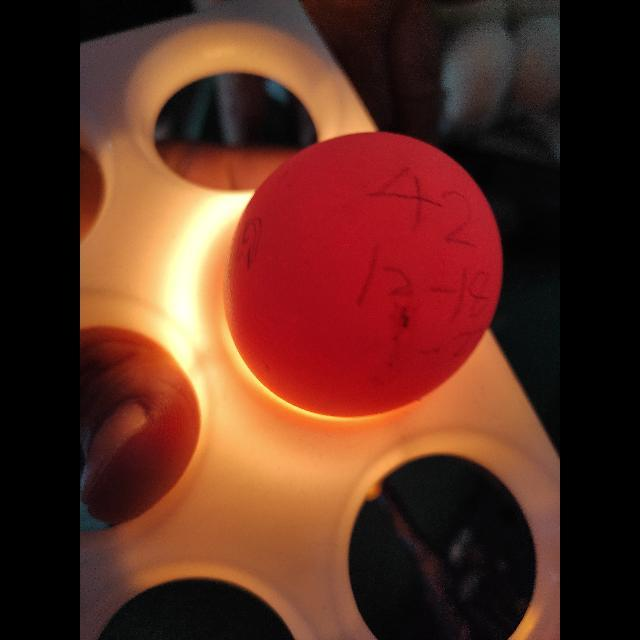A - Good: (218, 132, 500, 418)
